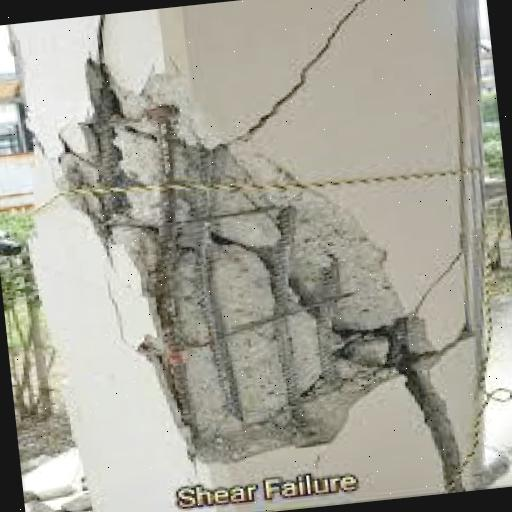spalling: (54, 54, 470, 493), (237, 0, 375, 138), (409, 247, 465, 314)
